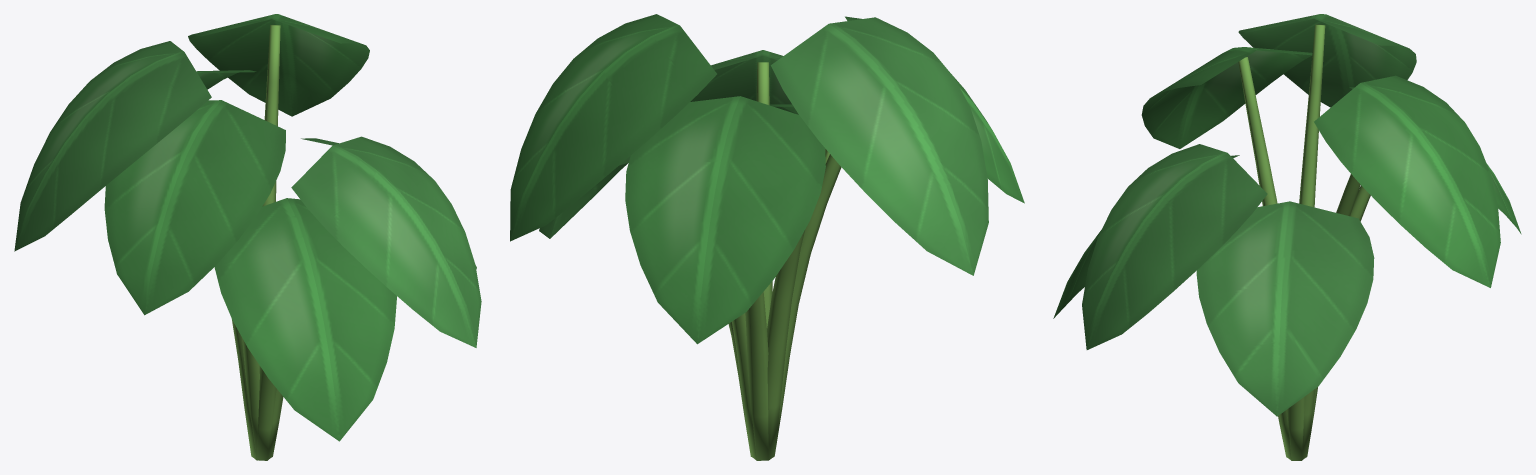
Rendered from taro_a.glb.
3 renders of one model, left to right at view 1: azimuth 30°, elevation 25°; view 2: azimuth 150°, elevation 25°; view 3: azimuth 270°, elevation 25°, orthographic. The views are drawn at different scales.
Visible parts, largest first — view 1: Taro_leaf; view 2: Taro_leaf; view 3: Taro_leaf.
Boxes of the visible parts, box(x1,y1,x2,y2) form: Taro_leaf: box(14, 14, 481, 460); Taro_leaf: box(510, 14, 1024, 460); Taro_leaf: box(1053, 14, 1521, 460).
Bounding box in the file's own units: 1.11 × 1.05 × 1.1.
Materials: 1 (1 with a texture image).
